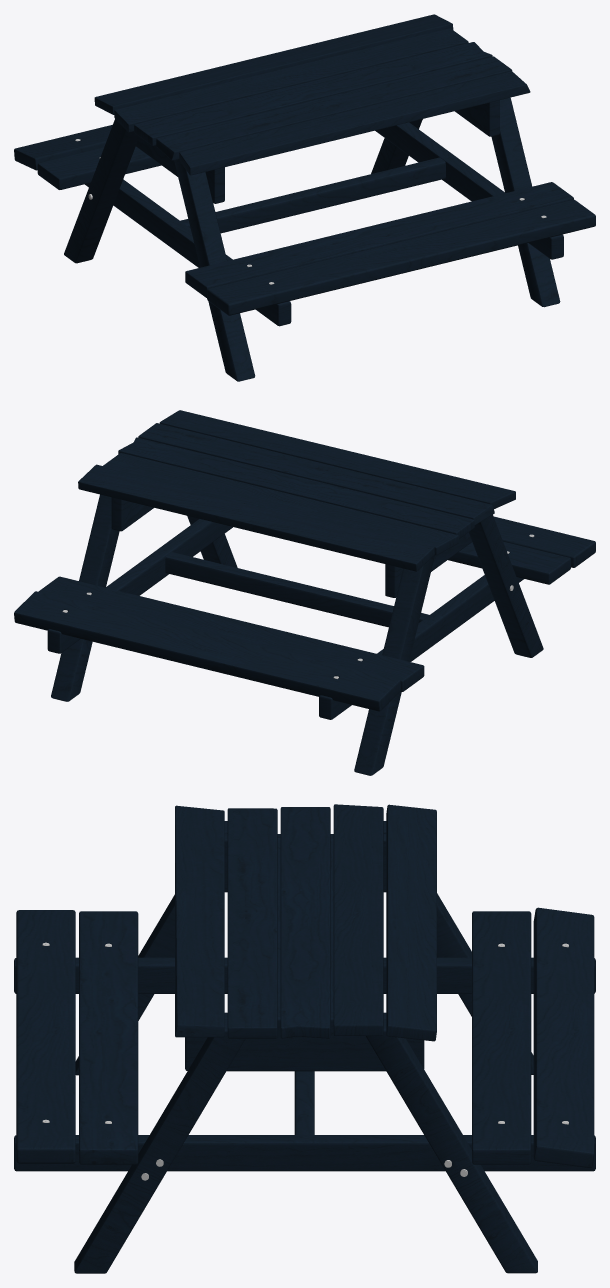
File: PicnicTable.fbx
3 views of the same model, one above another, from view 1: azimuth 30°, elevation 25°; view 2: azimuth 150°, elevation 25°; view 3: azimuth 270°, elevation 25° (orthographic). The views are drawn at different scales.
Visible parts, largest first — view 1: pCube5, pCube22, pCube18, pCube14, pCube13, pCube15, pCube3 (×2), pCube16, pCube10, pCube1, pCube25, pCube23 (+5 smaller); view 2: pCube20, pCube16, pCube19, pCube13, pCube14, pCube22, pCube3 (×2), pCube15, pCube10, pCube25, pCube1, pCube24 (+5 smaller); view 3: pCube20, pCube3 (×2), pCube5, pCube18, pCube19, pCube16, pCube14, pCube13, pCube15, pCube22, pCube23, pCube24 (+5 smaller).
Part boxes in pixels (box(x1,y1,x2,y2)): pCube5: box(207, 199, 595, 315); pCube22: box(179, 71, 530, 175); pCube18: box(185, 182, 573, 297); pCube14: box(134, 42, 492, 145); pCube13: box(156, 56, 512, 160); pCube15: box(114, 28, 468, 132); pCube3 (×2): box(85, 122, 563, 326); pCube16: box(94, 14, 453, 114); pCube10: box(180, 157, 445, 233); pCube1: box(174, 159, 255, 381); pCube25: box(64, 119, 139, 263); pCube23: box(491, 97, 560, 307); pCube20: box(14, 591, 401, 711); pCube16: box(78, 464, 434, 571); pCube19: box(38, 576, 424, 691); pCube13: box(138, 423, 494, 525); pCube14: box(118, 437, 474, 538); pCube22: box(159, 410, 515, 508); pCube3 (×2): box(47, 519, 523, 719); pCube15: box(103, 453, 458, 555); pCube10: box(165, 552, 429, 627); pCube25: box(354, 555, 434, 775); pCube1: box(468, 515, 543, 657); pCube24: box(51, 494, 119, 701); pCube20: box(533, 907, 594, 1167); pCube3 (×2): box(14, 957, 595, 1171); pCube5: box(16, 910, 75, 1163); pCube18: box(79, 911, 138, 1164); pCube19: box(472, 911, 531, 1164); pCube16: box(386, 804, 436, 1041); pCube14: box(280, 807, 330, 1038); pCube13: box(227, 808, 277, 1038); pCube15: box(333, 804, 383, 1035); pCube22: box(175, 805, 224, 1037); pCube23: box(74, 1019, 245, 1273); pCube24: box(365, 1019, 537, 1273).
Size of the model in its own units: 365 by 181 by 373.
